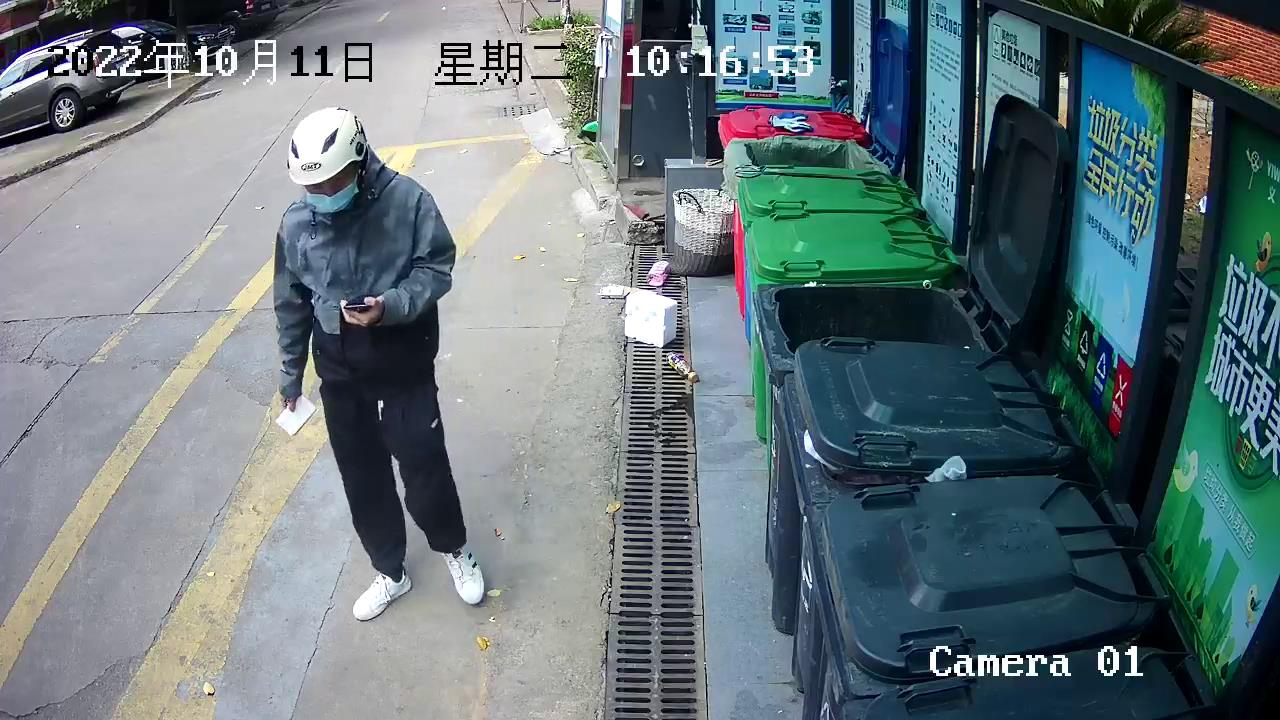person: (266, 102, 490, 624)
suliaozhipin: (663, 345, 703, 388), (643, 256, 675, 289)
zhizhipin: (621, 286, 683, 351)
